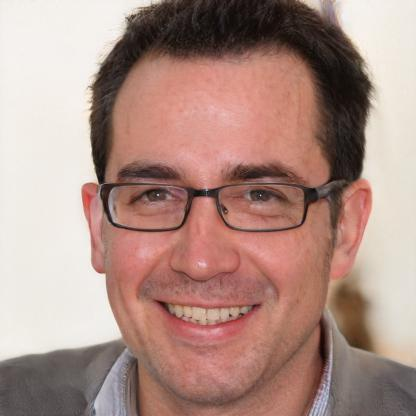glasses: (93, 177, 327, 237)
